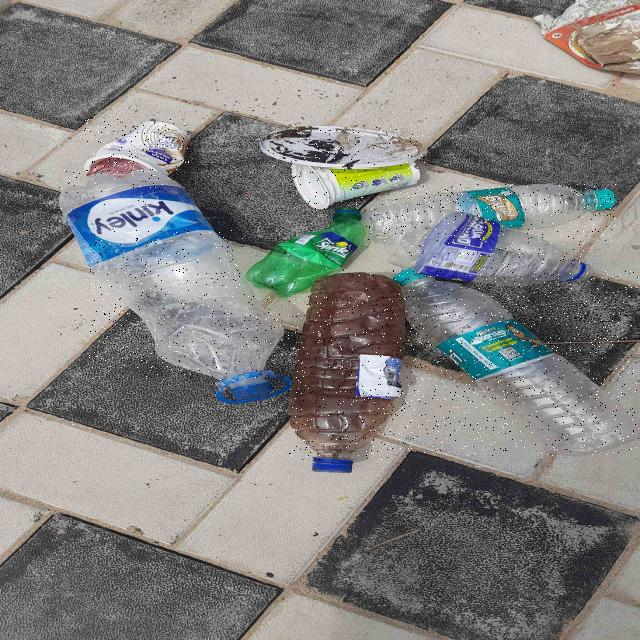plastic: (393, 271, 639, 456), (90, 231, 282, 380), (289, 273, 405, 460), (363, 184, 616, 242), (408, 213, 591, 285), (245, 208, 366, 296), (260, 126, 425, 168), (292, 163, 420, 209), (83, 119, 189, 173), (59, 170, 174, 211)
